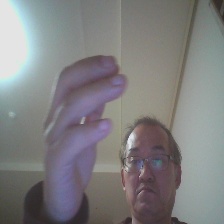hand: (41, 54, 122, 219)
